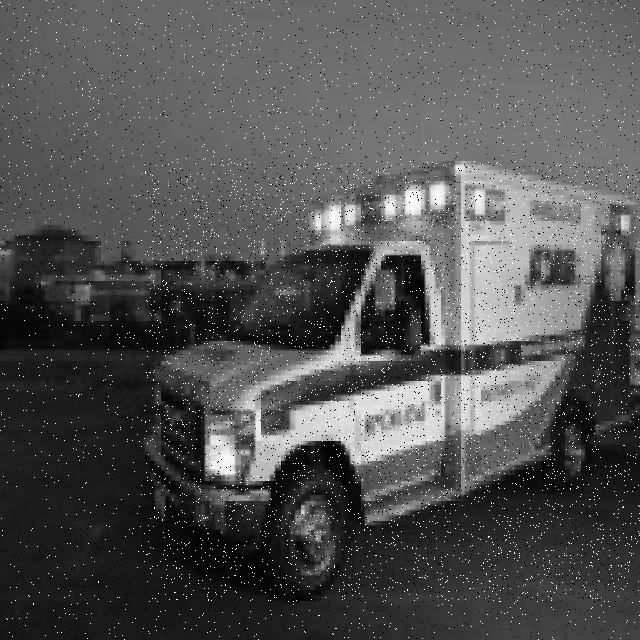Ambulance: (145, 162, 640, 602)
